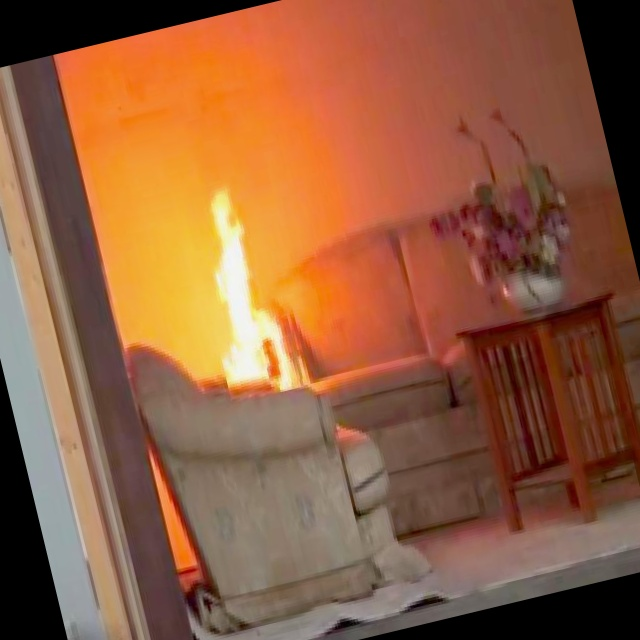fire: (166, 180, 302, 387)
